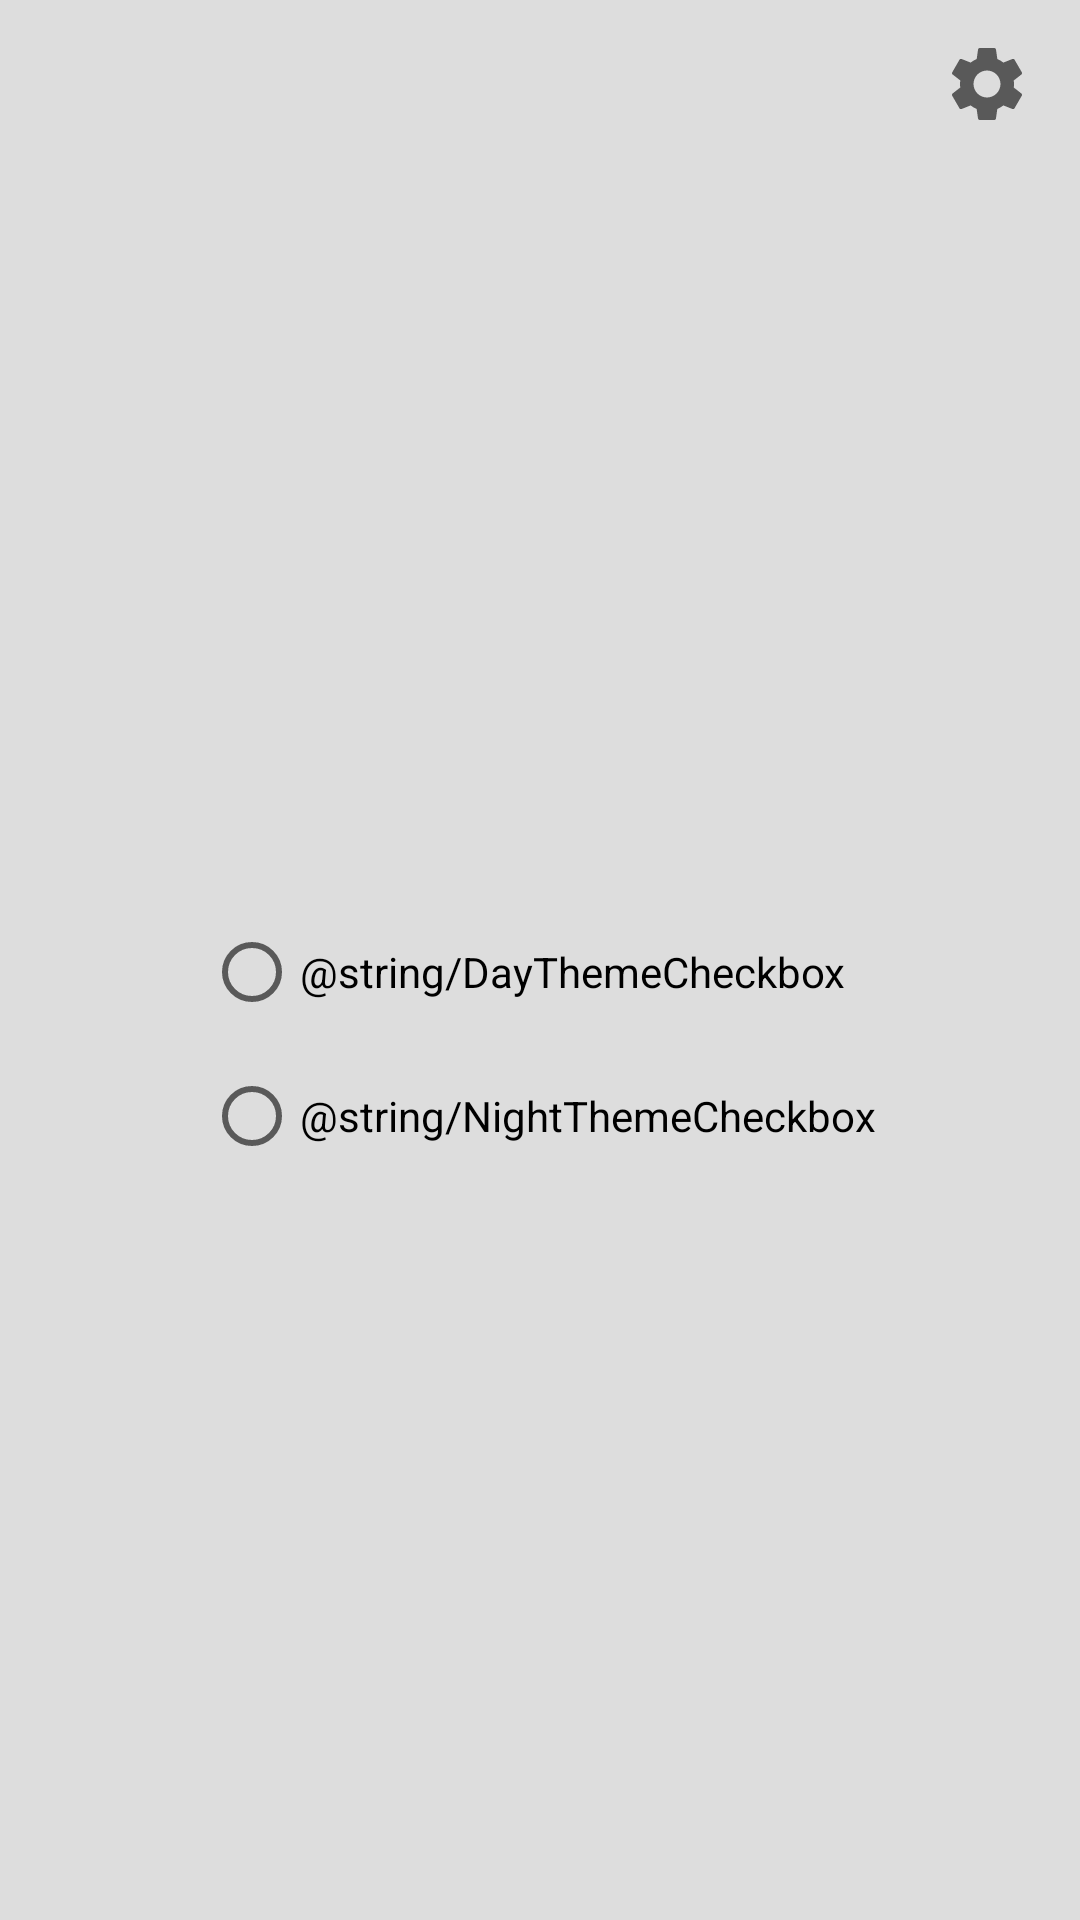

Screen size 1080px x 1920px. Icon name, then its center in pixels as (x=x, y=y):
settings: (x=987, y=84)
